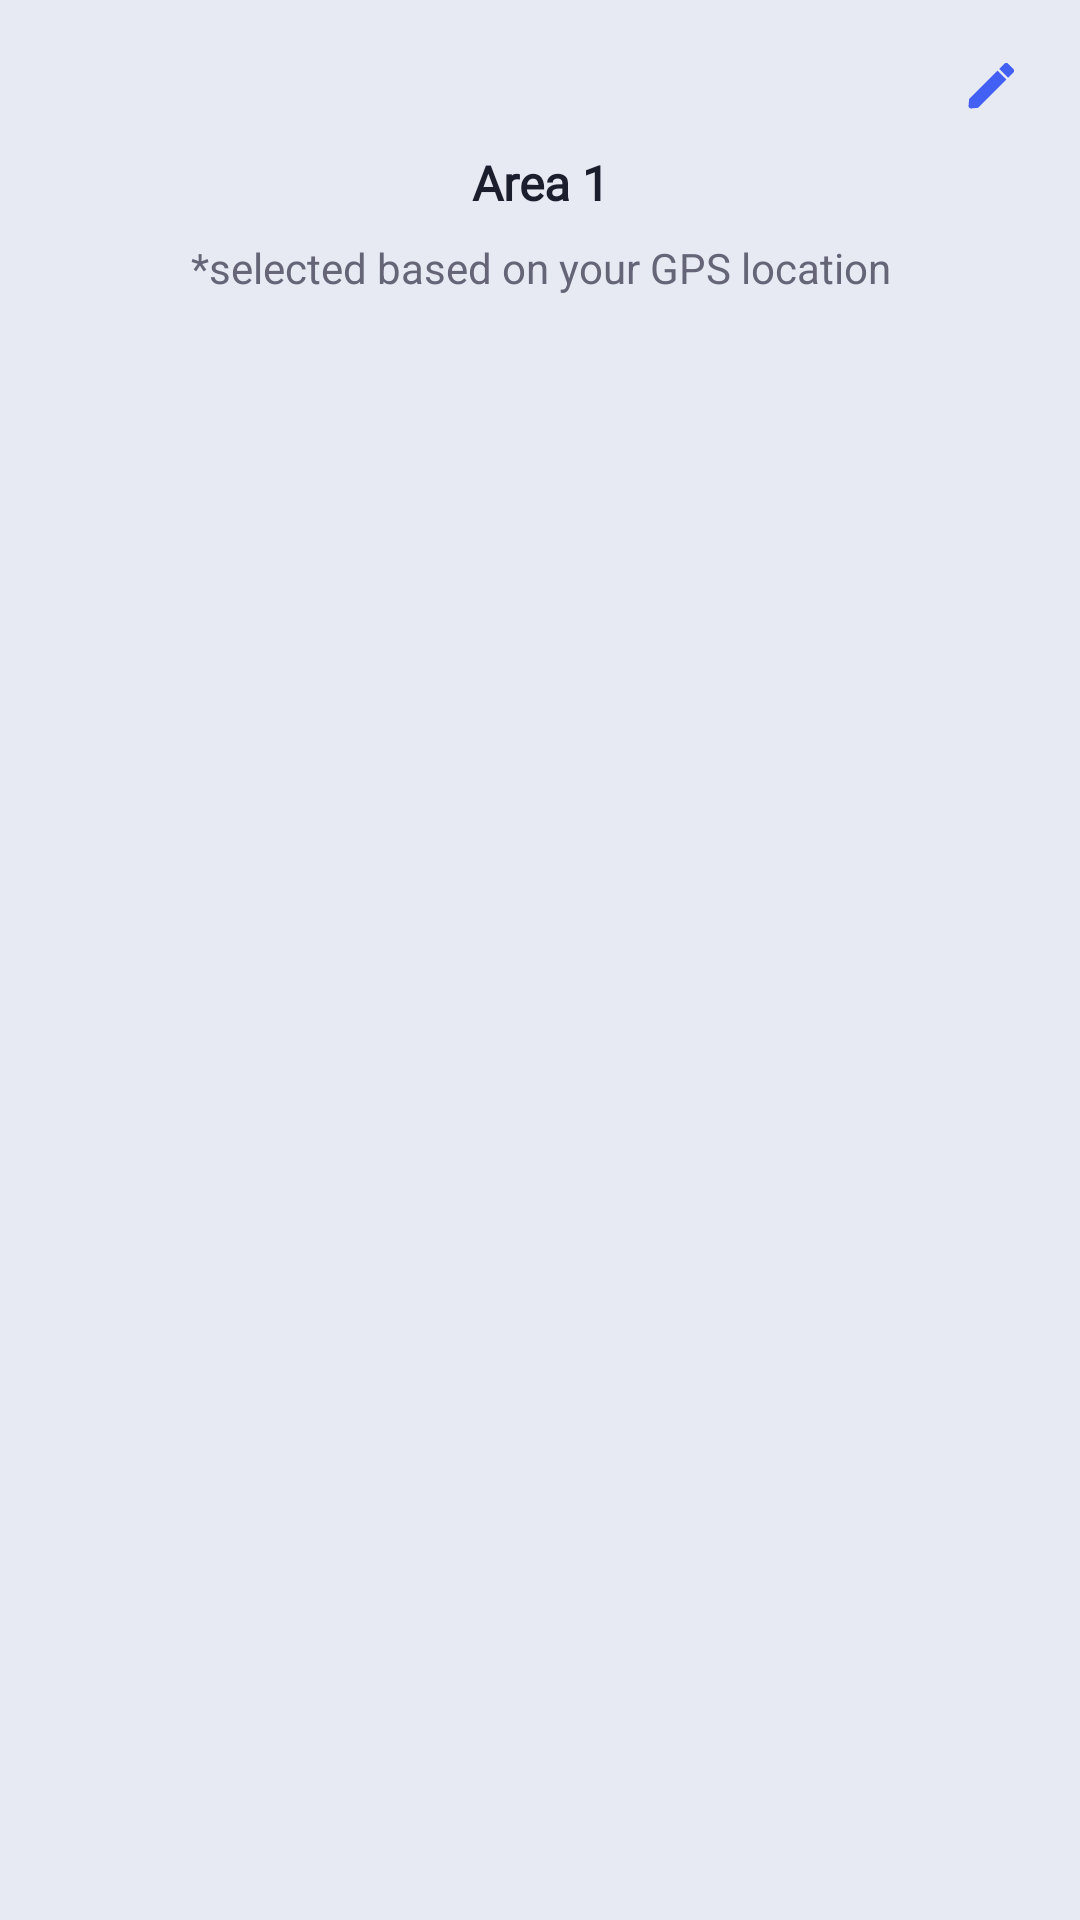

Point at icon controls on the screen. Image size 1080*1920, points as point (x, y).
edit: point (991, 86)
